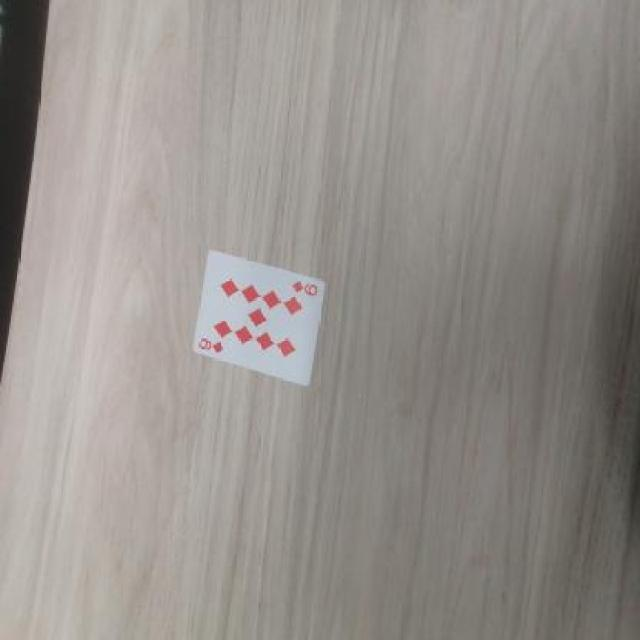9D: (287, 276, 322, 304), (189, 335, 226, 357), (215, 332, 216, 339)
